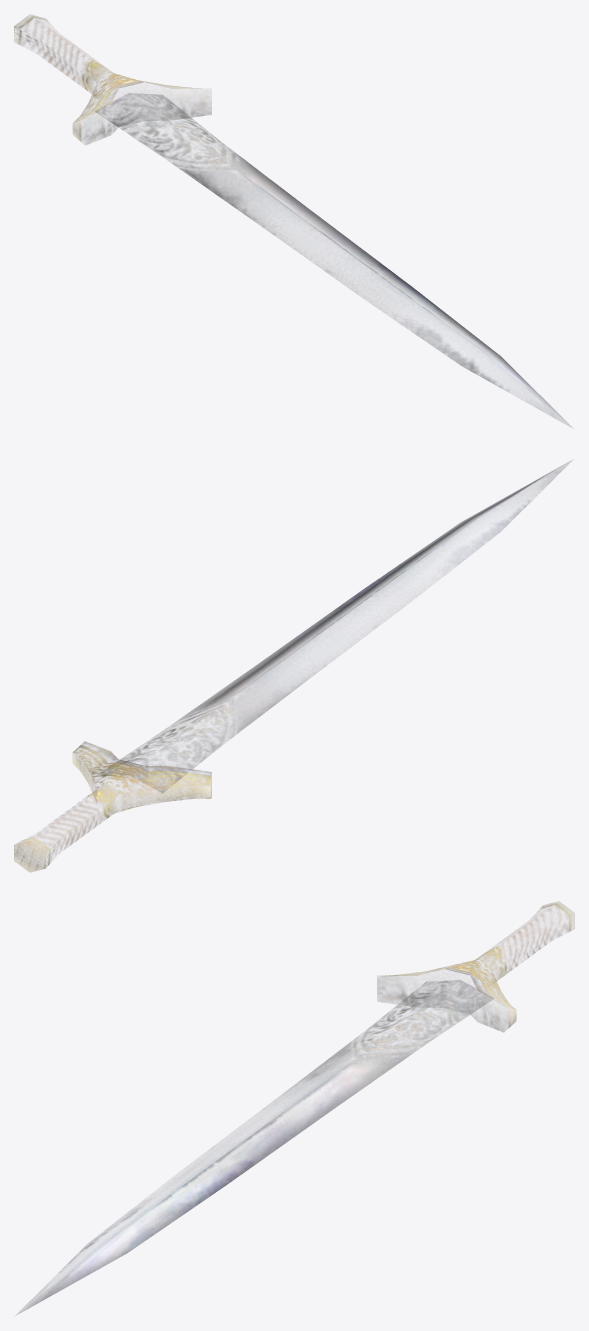
File: sword_03.glb
The picture shows the model from 3 angles, top to bottom: view 1: azimuth 30°, elevation 25°; view 2: azimuth 150°, elevation 25°; view 3: azimuth 330°, elevation 25°; orthographic projection.
Parts seen in each view (by area): view 1: sword_03; view 2: sword_03; view 3: sword_03.
Boxes of the visible parts, left/top/right/bottom form: sword_03: left=14, top=15, right=571, bottom=427; sword_03: left=14, top=461, right=570, bottom=872; sword_03: left=17, top=901, right=574, bottom=1314.
Size of the model in its own units: 0.1506 by 0.0406 by 1.03.
1 material, 1 textured.
